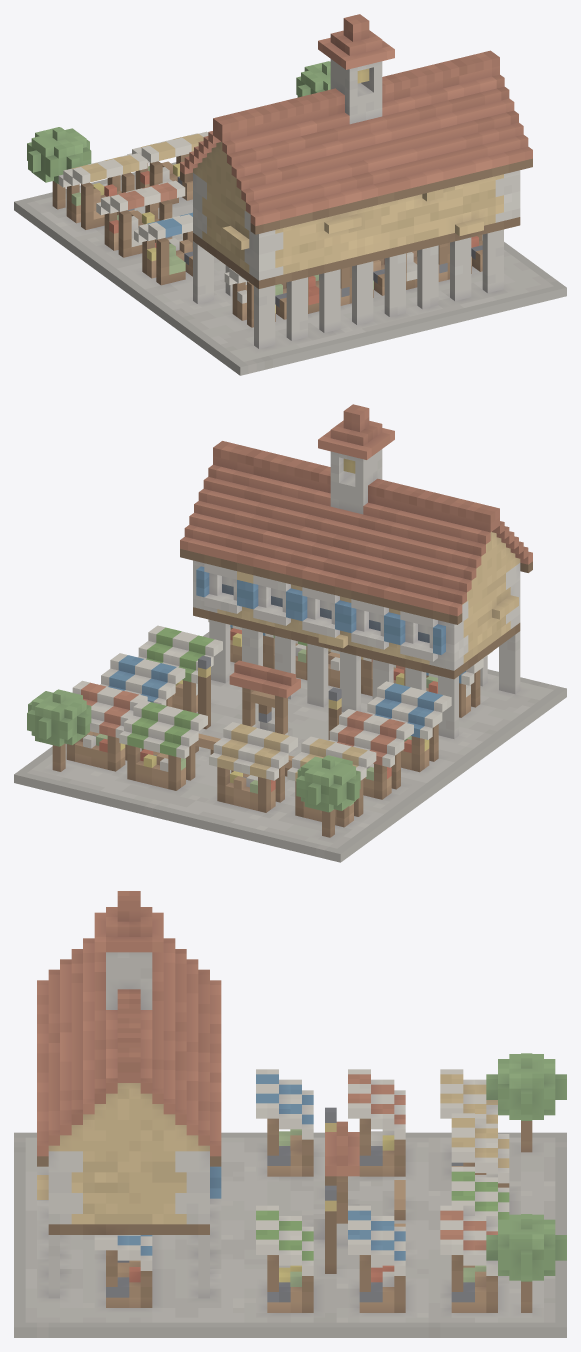
Rendered from market.l3.glb.
3 renders of one model, top to bottom at view 1: azimuth 30°, elevation 25°; view 2: azimuth 150°, elevation 25°; view 3: azimuth 270°, elevation 25°, orthographic. The views are drawn at different scales.
Visible parts, largest first — view 1: market; view 2: market; view 3: market.
Boxes of the visible parts, box(x1,y1,x2,y2) form: market: box(14, 14, 566, 375); market: box(14, 404, 566, 862); market: box(14, 891, 566, 1337).
Size of the model in its own units: 5 by 4.12 by 6.
